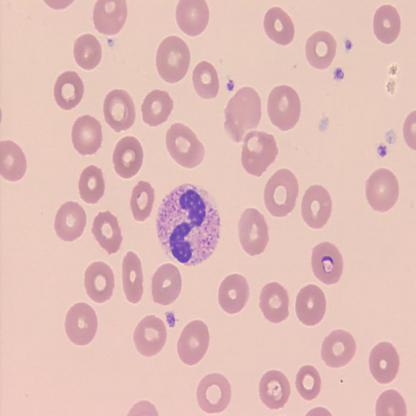Segmented neutrophil: (154, 181, 222, 268)
